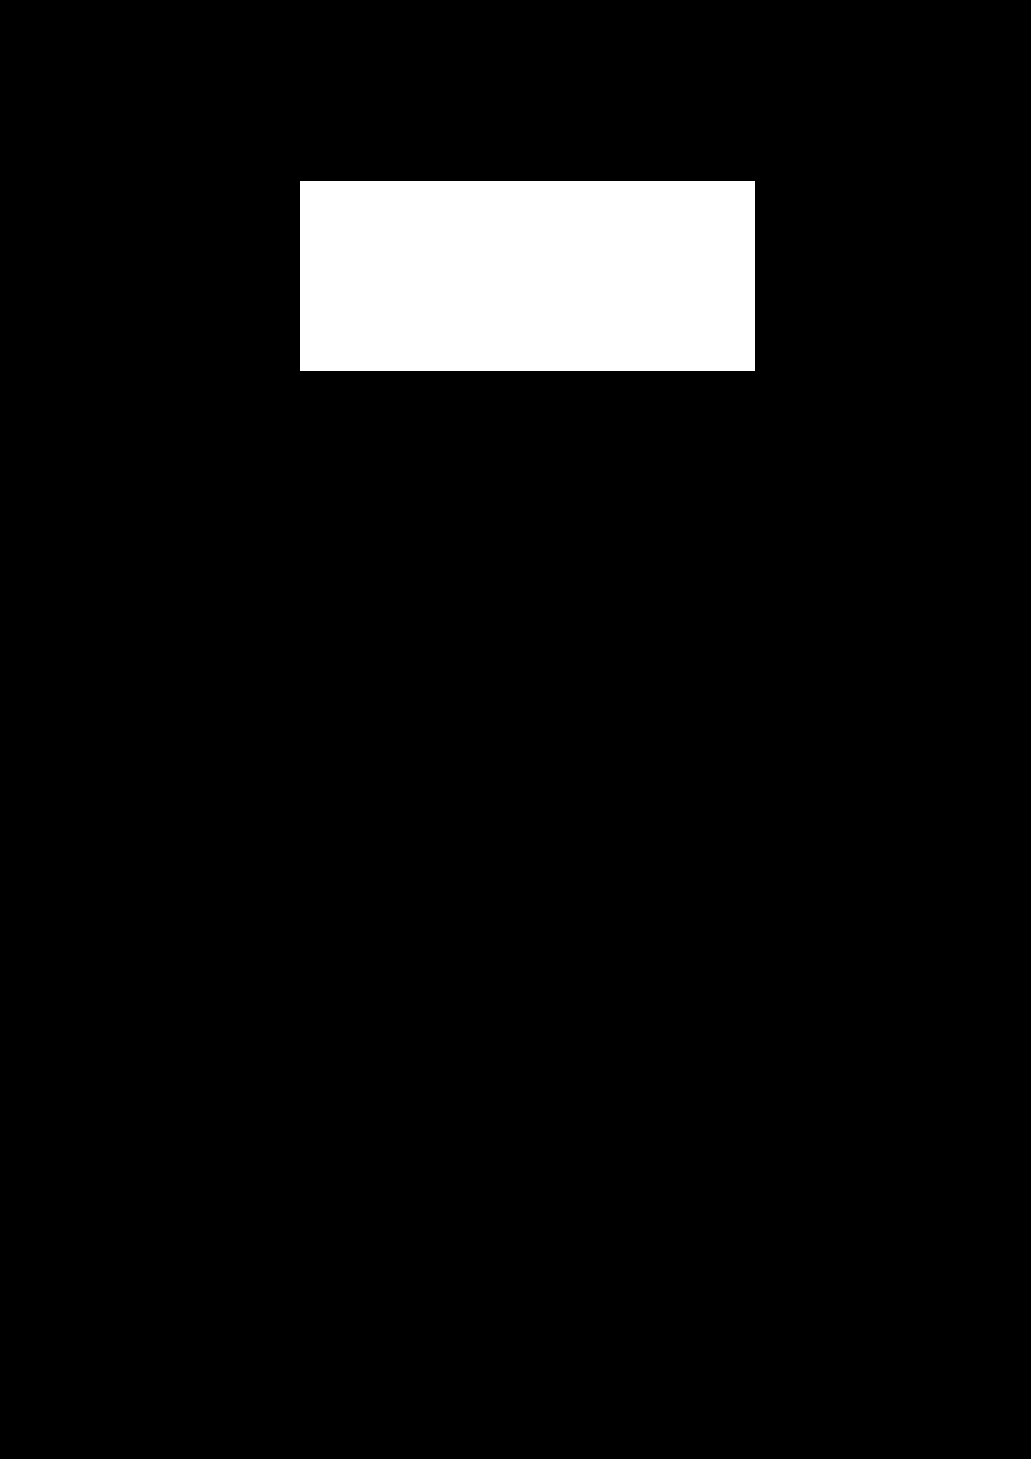table: (300, 181, 754, 370)
